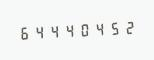five: (107, 18, 121, 37)
four: (62, 20, 76, 40), (32, 22, 46, 41), (47, 21, 61, 40), (92, 19, 106, 38)
six: (17, 23, 31, 42)
two: (122, 17, 136, 36)
zero: (77, 19, 91, 39)
